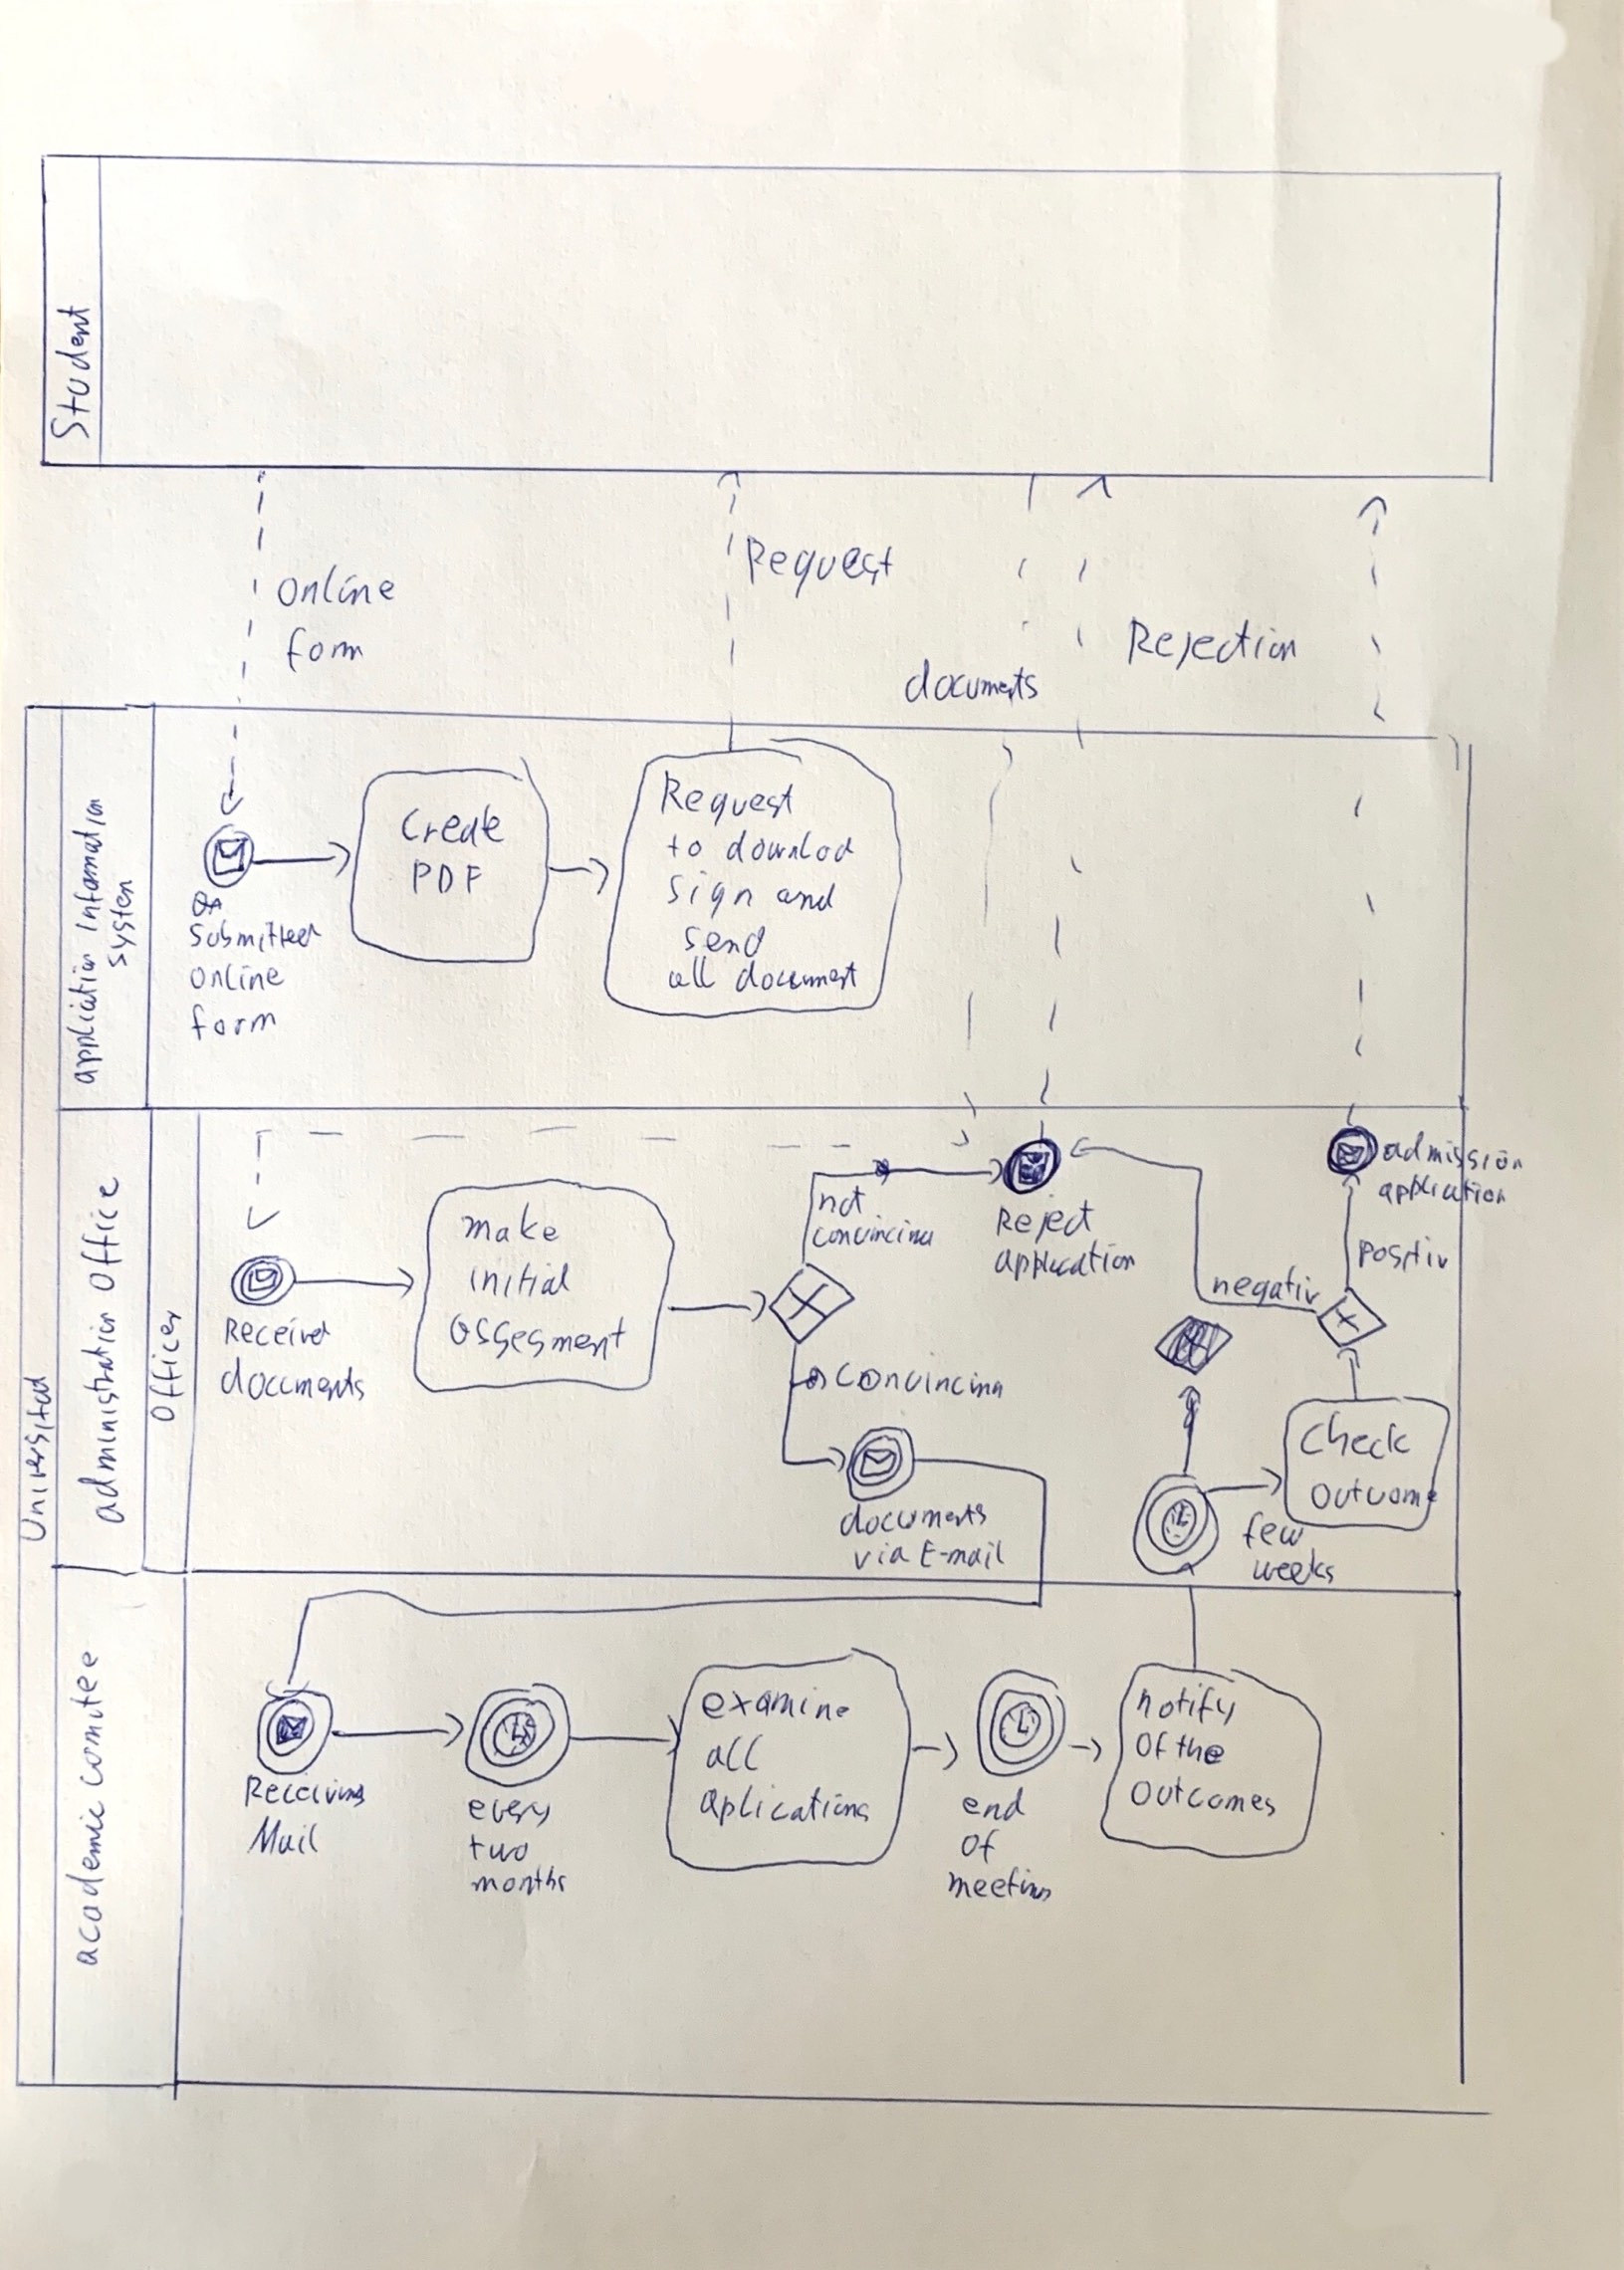Create: (396, 804, 506, 849)
E-mail: (916, 1538, 1006, 1573)
Information: (67, 796, 110, 931)
Mail: (244, 1817, 323, 1859)
Online: (276, 567, 396, 613)
PDF: (409, 858, 490, 898)
Received: (221, 1315, 330, 1353)
Receiving: (245, 1777, 366, 1812)
Reject: (993, 1202, 1099, 1241)
Rejection: (1129, 620, 1304, 667)
Request: (737, 535, 895, 589), (654, 773, 801, 825)
Student: (42, 304, 97, 443)
Submitted: (186, 921, 325, 954)
Universitat: (15, 1374, 60, 1539)
academic: (68, 1793, 105, 1968)
administration: (78, 1302, 126, 1525)
admission: (1383, 1133, 1528, 1181)
all: (703, 1733, 765, 1775), (663, 958, 724, 994)
and: (772, 877, 840, 915)
aplications: (696, 1785, 873, 1828)
application: (993, 1244, 1141, 1284), (67, 947, 103, 1086), (1377, 1176, 1508, 1212)
assesment: (446, 1312, 628, 1363)
check: (1297, 1414, 1413, 1462)
comitee: (66, 1649, 104, 1787)
convincing: (834, 1367, 1007, 1408), (812, 1221, 938, 1252)
document: (740, 959, 862, 996)
documents: (223, 1362, 366, 1409), (905, 661, 1043, 710), (842, 1496, 987, 1536)
download: (728, 828, 858, 868)
end: (962, 1790, 1031, 1823)
every: (467, 1796, 555, 1830)
examine: (704, 1689, 852, 1727)
few: (1241, 1518, 1309, 1551)
form: (278, 627, 362, 678), (187, 1003, 280, 1041)
initial: (466, 1261, 574, 1301)
make: (468, 1209, 557, 1248)
meeting: (940, 1871, 1058, 1902)
months: (464, 1869, 571, 1900)
negativ: (1211, 1270, 1322, 1308)
not: (820, 1189, 863, 1220)
notify: (1132, 1686, 1240, 1726)
of: (962, 1832, 1000, 1864), (1134, 1729, 1165, 1763)
office: (78, 1178, 125, 1293)
officer: (146, 1309, 188, 1426)
online: (187, 964, 286, 996)
outcome: (1308, 1479, 1439, 1518)
outcomes: (1132, 1775, 1280, 1820)
positiv: (1355, 1236, 1457, 1274)
send: (680, 922, 768, 958)
sign: (663, 872, 770, 915)
system: (107, 875, 145, 971)
the: (1168, 1732, 1227, 1769)
to: (659, 828, 707, 864)
two: (465, 1835, 533, 1867)
via: (854, 1540, 911, 1573)
weeks: (1259, 1554, 1337, 1586)
